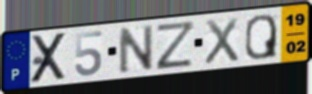5: (73, 29, 103, 78)
N: (116, 23, 155, 76)
Q: (243, 13, 279, 61)
X: (29, 30, 70, 86), (203, 16, 241, 67)
Z: (155, 19, 198, 72)
